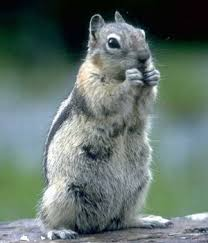Ardilla: (57, 13, 177, 229)
